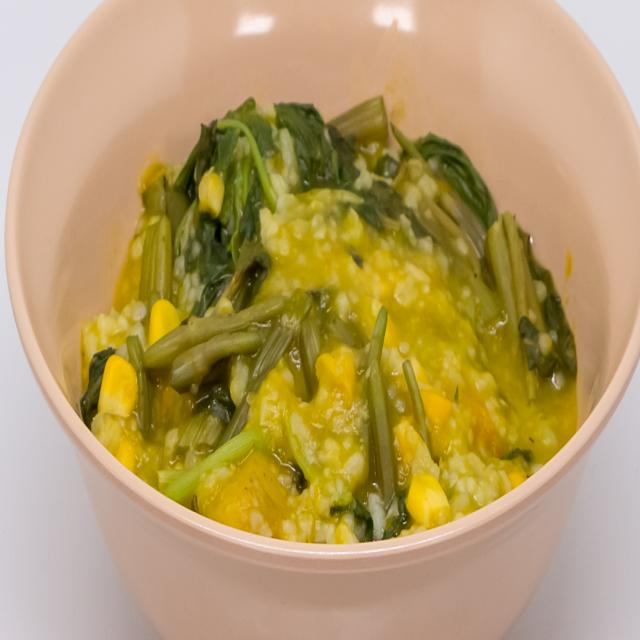Bubur-Manado: (62, 62, 595, 578)
